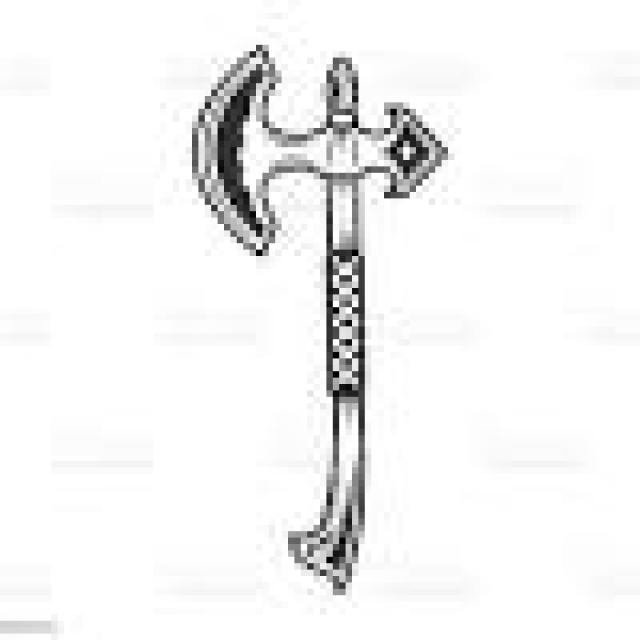Gun: (167, 32, 461, 599)
